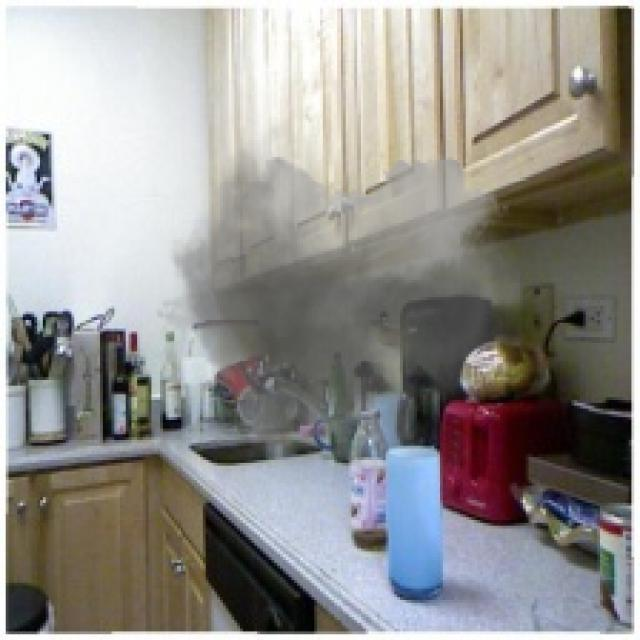Smoke: (143, 71, 523, 492)
